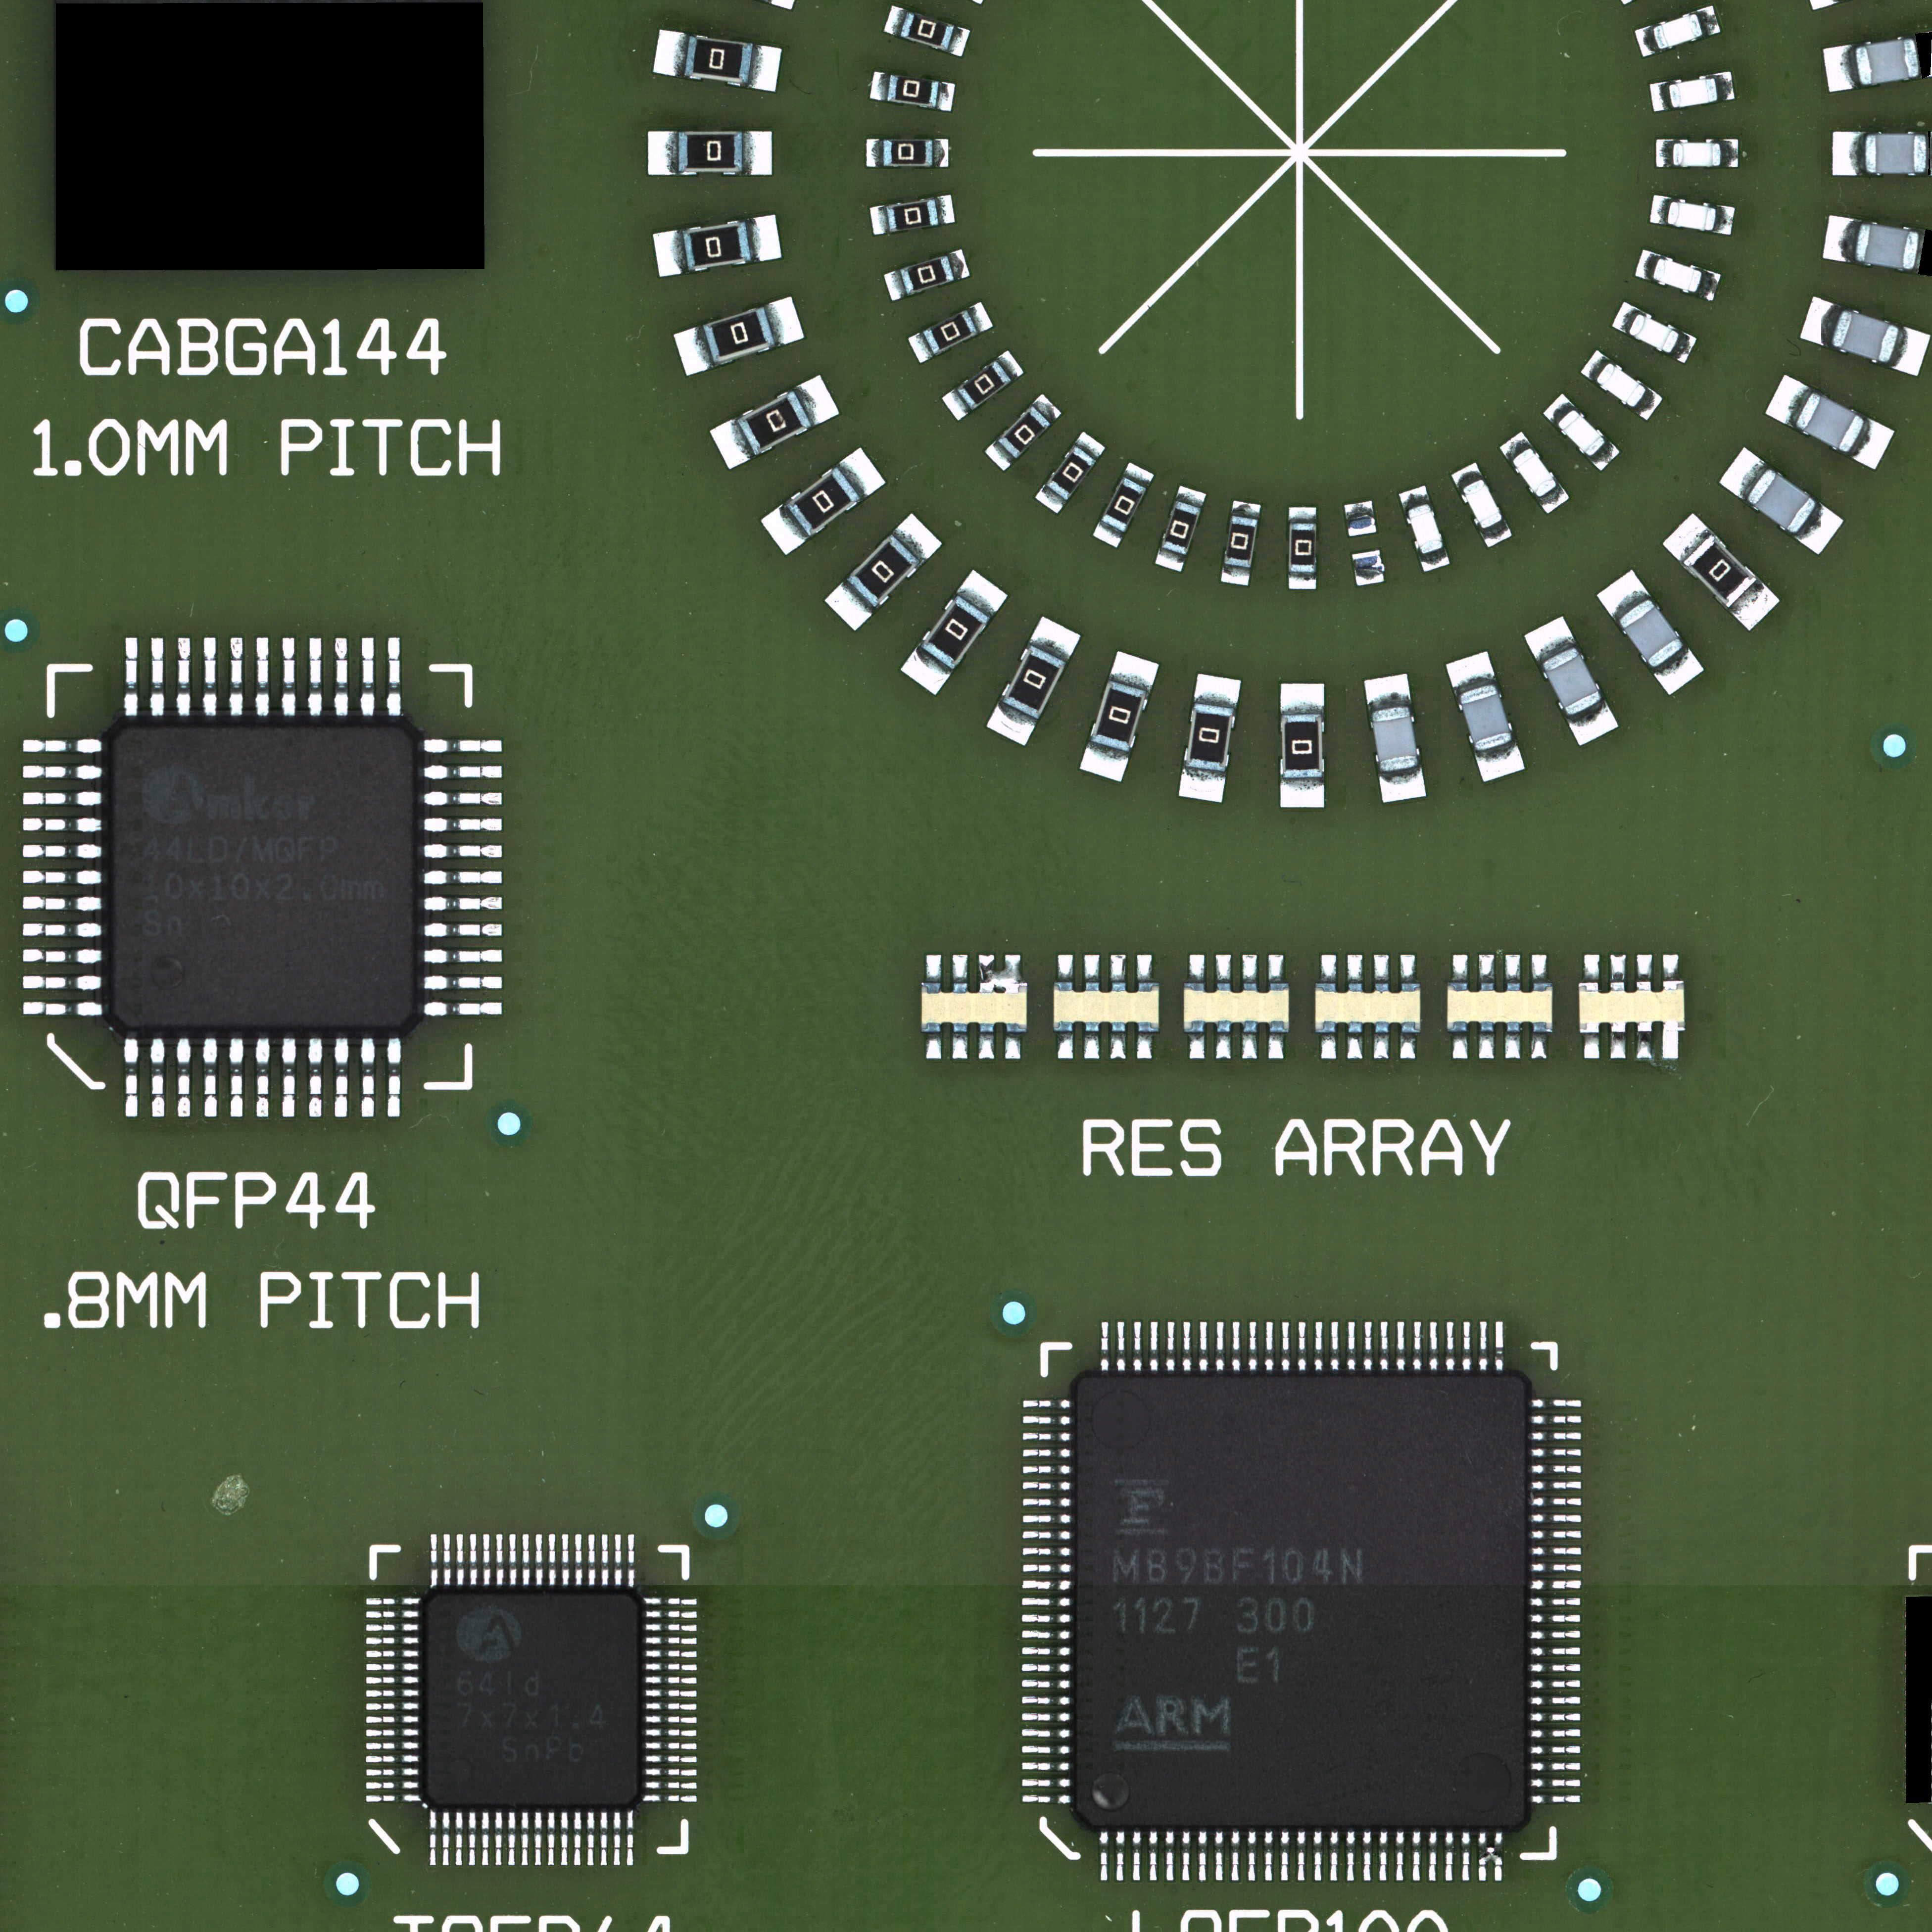Package: (1077, 1376, 1527, 1828), (110, 729, 419, 1035), (425, 1591, 639, 1806), (1578, 980, 1686, 1033), (1683, 533, 1757, 609), (1315, 982, 1422, 1033), (918, 594, 991, 671), (786, 465, 862, 538), (1053, 982, 1159, 1033), (1184, 982, 1290, 1033), (1447, 982, 1553, 1033), (847, 533, 920, 607), (922, 984, 1028, 1033), (736, 389, 812, 456), (1744, 467, 1817, 536), (1001, 644, 1067, 720), (1617, 596, 1684, 669), (1794, 391, 1867, 455), (702, 304, 777, 364), (1541, 646, 1603, 717), (1458, 681, 1514, 754), (1829, 308, 1902, 364), (1090, 679, 1146, 752), (1854, 221, 1923, 272), (1185, 701, 1235, 771), (1854, 35, 1921, 87), (683, 221, 752, 271), (1371, 704, 1419, 773), (685, 35, 752, 83), (996, 405, 1051, 458), (955, 359, 1012, 410), (1046, 444, 1097, 501), (922, 308, 978, 357), (1100, 476, 1148, 534), (1867, 131, 1927, 175), (1281, 715, 1322, 778), (678, 131, 743, 170), (1596, 361, 1647, 409), (1511, 446, 1557, 499), (899, 11, 955, 53), (1557, 409, 1606, 456), (899, 255, 955, 295), (1161, 501, 1201, 556), (1461, 478, 1504, 529), (1628, 313, 1681, 354), (1223, 515, 1260, 568), (1407, 502, 1444, 556), (1651, 12, 1704, 50), (1651, 257, 1702, 294), (886, 74, 939, 110), (886, 198, 939, 234), (1667, 200, 1716, 234), (1668, 76, 1718, 110), (883, 140, 932, 168), (1290, 524, 1316, 573), (1674, 143, 1720, 166)
Solder: (1596, 568, 1651, 621), (1727, 577, 1780, 632), (824, 577, 878, 632), (1651, 644, 1706, 695), (1718, 446, 1769, 501), (835, 448, 886, 501), (1794, 501, 1844, 556), (899, 646, 954, 695), (892, 513, 943, 564), (1764, 375, 1813, 428), (955, 570, 1008, 619), (761, 502, 810, 556), (1566, 699, 1621, 747), (1661, 513, 1713, 563), (1523, 616, 1576, 663), (1847, 418, 1895, 471), (709, 418, 757, 471), (793, 375, 840, 426), (1028, 616, 1081, 662), (985, 701, 1039, 747), (1799, 295, 1844, 349), (1888, 326, 1932, 379), (1444, 651, 1497, 694), (763, 295, 805, 349), (672, 326, 715, 377), (1474, 741, 1525, 782), (1108, 651, 1159, 692), (1079, 741, 1131, 782), (653, 28, 690, 80), (1364, 672, 1412, 711), (1822, 216, 1861, 264), (745, 214, 782, 264), (1378, 766, 1426, 803), (1178, 766, 1226, 803), (1822, 44, 1859, 92), (1192, 672, 1242, 708), (653, 228, 688, 278), (748, 44, 782, 92), (1833, 131, 1865, 175), (23, 869, 101, 886), (648, 131, 678, 175), (1281, 683, 1325, 713), (1281, 778, 1325, 809), (228, 1039, 244, 1120), (21, 948, 103, 964), (21, 1001, 103, 1017), (23, 895, 103, 911), (423, 895, 502, 911), (423, 870, 502, 886), (386, 637, 402, 717), (228, 637, 244, 717), (23, 791, 103, 807), (423, 844, 502, 860), (423, 738, 502, 754), (423, 947, 502, 962), (423, 1001, 502, 1017), (423, 922, 502, 938), (743, 131, 771, 175), (21, 766, 103, 780), (21, 846, 103, 860), (281, 635, 295, 717), (281, 1039, 295, 1120), (21, 817, 103, 832), (21, 977, 103, 991), (386, 1039, 400, 1120), (334, 635, 349, 717), (177, 635, 191, 717), (150, 635, 165, 717), (203, 1039, 218, 1118), (361, 1040, 375, 1120), (255, 1039, 269, 1118), (423, 766, 502, 780), (361, 639, 375, 718), (124, 637, 138, 717), (255, 637, 269, 717), (334, 1039, 349, 1118), (23, 924, 103, 938), (177, 1039, 191, 1118), (423, 975, 502, 989), (423, 817, 502, 832), (423, 791, 502, 805), (23, 740, 103, 754), (308, 637, 322, 717), (984, 441, 1017, 472), (1536, 483, 1569, 515), (1543, 393, 1575, 426), (1589, 439, 1621, 471), (941, 387, 971, 421), (1479, 518, 1513, 548), (1499, 432, 1532, 462), (1633, 387, 1663, 421), (1580, 349, 1610, 382), (1668, 331, 1698, 364), (203, 637, 216, 717), (310, 1039, 322, 1118), (152, 1039, 165, 1118), (126, 1039, 138, 1118), (1031, 393, 1062, 425), (1035, 485, 1067, 515), (966, 301, 994, 334), (1092, 520, 1125, 548), (996, 350, 1024, 382), (1074, 432, 1106, 460), (1451, 462, 1483, 490), (908, 331, 934, 364), (1122, 462, 1155, 488), (1612, 301, 1638, 334), (1695, 269, 1721, 303), (1633, 249, 1660, 281), (1417, 547, 1451, 571), (1697, 5, 1721, 39), (1155, 547, 1185, 573), (947, 25, 971, 57), (883, 5, 908, 37), (947, 249, 971, 281), (883, 269, 908, 301), (1635, 25, 1660, 57), (1649, 81, 1672, 113), (1175, 485, 1207, 508), (640, 1792, 697, 1805), (364, 1635, 421, 1647), (364, 1661, 421, 1674), (1529, 1596, 1582, 1608), (1021, 1596, 1074, 1608), (1410, 1829, 1422, 1882), (1529, 1578, 1582, 1591), (1021, 1513, 1074, 1525), (1530, 1562, 1583, 1575), (1021, 1398, 1074, 1410), (1530, 1431, 1583, 1444), (1530, 1481, 1583, 1493), (1529, 1744, 1582, 1757), (1221, 564, 1251, 586), (1714, 205, 1736, 235), (1649, 195, 1670, 225), (1714, 71, 1736, 101), (1021, 1414, 1072, 1426), (1021, 1711, 1072, 1723), (1426, 1831, 1438, 1882), (1021, 1629, 1072, 1642), (1021, 1614, 1072, 1626), (1021, 1497, 1072, 1509), (1021, 1481, 1072, 1493), (1023, 1562, 1074, 1575), (612, 1808, 623, 1867), (936, 195, 955, 226), (1230, 501, 1261, 520), (625, 1808, 635, 1867), (598, 1808, 609, 1867), (1023, 1463, 1072, 1476), (1164, 1831, 1177, 1881), (1164, 1322, 1177, 1371), (364, 1727, 421, 1737), (364, 1741, 421, 1752), (642, 1729, 699, 1739), (364, 1714, 421, 1725), (642, 1596, 699, 1606), (364, 1753, 421, 1764), (642, 1741, 699, 1752), (364, 1675, 421, 1686), (364, 1622, 421, 1633), (642, 1767, 699, 1778), (364, 1649, 421, 1660), (467, 1810, 478, 1867), (364, 1767, 421, 1778), (573, 1532, 584, 1589), (626, 1532, 637, 1589), (364, 1688, 421, 1698), (364, 1780, 421, 1790), (642, 1661, 699, 1672), (642, 1688, 699, 1698), (453, 1810, 464, 1867), (936, 81, 955, 111), (870, 71, 890, 101), (644, 1714, 699, 1725), (494, 1812, 504, 1867), (644, 1622, 699, 1633), (642, 1649, 697, 1660), (642, 1675, 697, 1686), (600, 1532, 610, 1587), (642, 1635, 697, 1645), (642, 1780, 697, 1790), (1530, 1415, 1583, 1426), (1529, 1729, 1582, 1739), (1529, 1629, 1582, 1640), (1530, 1546, 1583, 1557), (1530, 1513, 1583, 1523), (481, 1534, 492, 1587), (1529, 1679, 1582, 1690), (1530, 1497, 1583, 1507), (1529, 1711, 1582, 1721), (1265, 1320, 1276, 1373), (1529, 1663, 1582, 1674), (1021, 1580, 1074, 1591), (1529, 1398, 1582, 1408), (1530, 1447, 1583, 1458), (1530, 1530, 1583, 1541), (1529, 1794, 1582, 1805), (1529, 1614, 1582, 1624), (1281, 1320, 1292, 1373), (1297, 1320, 1307, 1373), (1394, 1829, 1405, 1882), (1530, 1778, 1582, 1789), (1021, 1663, 1072, 1674), (1021, 1778, 1072, 1789), (1021, 1729, 1072, 1739), (1021, 1679, 1072, 1690), (1023, 1530, 1074, 1541), (1021, 1546, 1072, 1557), (1530, 1760, 1582, 1771), (1099, 1831, 1109, 1882), (1198, 1831, 1208, 1882), (1021, 1760, 1072, 1771), (1460, 1831, 1470, 1882), (1021, 1695, 1072, 1706), (1021, 1447, 1072, 1458), (1362, 1320, 1373, 1371), (1529, 1695, 1580, 1706), (1461, 1320, 1472, 1371), (1444, 1831, 1454, 1882), (1214, 1831, 1224, 1882), (1021, 1794, 1072, 1805), (1021, 1744, 1072, 1755), (1021, 1431, 1072, 1442), (1230, 1831, 1240, 1881), (1279, 1831, 1290, 1881), (1378, 1831, 1389, 1881), (1180, 1831, 1191, 1881), (1313, 1831, 1323, 1881), (1148, 1831, 1159, 1881), (1115, 1831, 1125, 1881), (1428, 1322, 1438, 1371), (1263, 1831, 1274, 1881), (1329, 1831, 1339, 1881), (1198, 1322, 1208, 1371), (1247, 1322, 1258, 1371), (1445, 1322, 1456, 1371), (1396, 1322, 1407, 1371), (441, 1808, 449, 1867), (430, 1808, 439, 1867), (642, 1755, 699, 1764), (364, 1702, 421, 1711), (364, 1610, 421, 1619), (642, 1610, 699, 1619), (1721, 140, 1739, 168), (364, 1794, 421, 1803), (573, 1810, 582, 1867), (1136, 954, 1154, 982), (1267, 954, 1284, 982), (1346, 954, 1364, 982), (1477, 954, 1495, 982), (1530, 954, 1548, 982), (366, 1598, 421, 1606), (520, 1812, 529, 1867), (644, 1702, 699, 1711), (533, 1812, 541, 1867), (559, 1812, 568, 1867), (547, 1812, 556, 1867), (481, 1812, 490, 1867), (430, 1534, 439, 1589), (456, 1534, 465, 1589), (614, 1534, 623, 1589), (932, 138, 948, 168), (508, 1813, 517, 1867), (442, 1534, 451, 1587), (534, 1534, 543, 1587), (469, 1534, 478, 1587), (1100, 1320, 1109, 1373), (1083, 954, 1100, 980), (1056, 1033, 1074, 1060), (1083, 1033, 1100, 1060), (1109, 1033, 1127, 1060), (1109, 954, 1127, 980), (1240, 1033, 1258, 1060), (1267, 1033, 1284, 1060), (1582, 954, 1599, 980), (1661, 954, 1679, 980), (1530, 1465, 1582, 1474), (1021, 1647, 1072, 1656), (495, 1534, 504, 1585), (508, 1534, 517, 1585), (1529, 1647, 1580, 1656), (520, 1534, 529, 1585), (1315, 1320, 1323, 1371), (587, 1534, 596, 1585), (559, 1534, 568, 1585), (1116, 1320, 1125, 1371), (1346, 1831, 1355, 1882), (867, 140, 883, 168), (1288, 573, 1316, 589), (1656, 140, 1672, 168), (1058, 954, 1074, 982), (1215, 954, 1231, 982), (1453, 954, 1468, 982), (1506, 954, 1522, 982), (925, 1033, 941, 1062), (952, 1033, 968, 1062), (1005, 1033, 1021, 1062), (1362, 1831, 1371, 1881), (1132, 1831, 1141, 1881), (1247, 1831, 1256, 1881), (1215, 1322, 1224, 1371), (1297, 1831, 1306, 1881), (1380, 1322, 1389, 1371), (1412, 1322, 1421, 1371), (1330, 1322, 1339, 1371), (1150, 1322, 1159, 1371), (1132, 1322, 1141, 1371), (1479, 1322, 1488, 1371), (1182, 1322, 1191, 1371), (1231, 1322, 1240, 1371), (1346, 1322, 1355, 1371), (1495, 1322, 1504, 1371), (1373, 1033, 1391, 1058), (1320, 1033, 1338, 1058), (1504, 1033, 1522, 1058), (1661, 1033, 1679, 1058), (1290, 508, 1316, 524), (1189, 955, 1205, 982), (1242, 955, 1258, 982), (1189, 1033, 1205, 1060), (1215, 1033, 1231, 1060), (1320, 954, 1336, 980), (1373, 954, 1389, 980), (1399, 954, 1415, 980), (1399, 1033, 1415, 1060), (1346, 1033, 1362, 1060), (1530, 1033, 1546, 1060), (1610, 954, 1626, 980), (1637, 954, 1652, 980), (925, 955, 941, 982), (952, 955, 968, 982), (978, 955, 994, 982), (1005, 955, 1021, 982), (587, 1810, 594, 1867), (1136, 1033, 1152, 1058), (1477, 1033, 1493, 1058), (1453, 1033, 1468, 1058), (1637, 1033, 1652, 1058), (1610, 1033, 1626, 1058), (1583, 1033, 1599, 1058), (978, 1035, 993, 1062), (548, 1534, 556, 1585)
